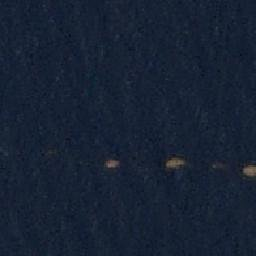debris: (166, 156, 186, 170), (101, 157, 119, 169), (240, 165, 256, 175), (210, 164, 218, 169)
